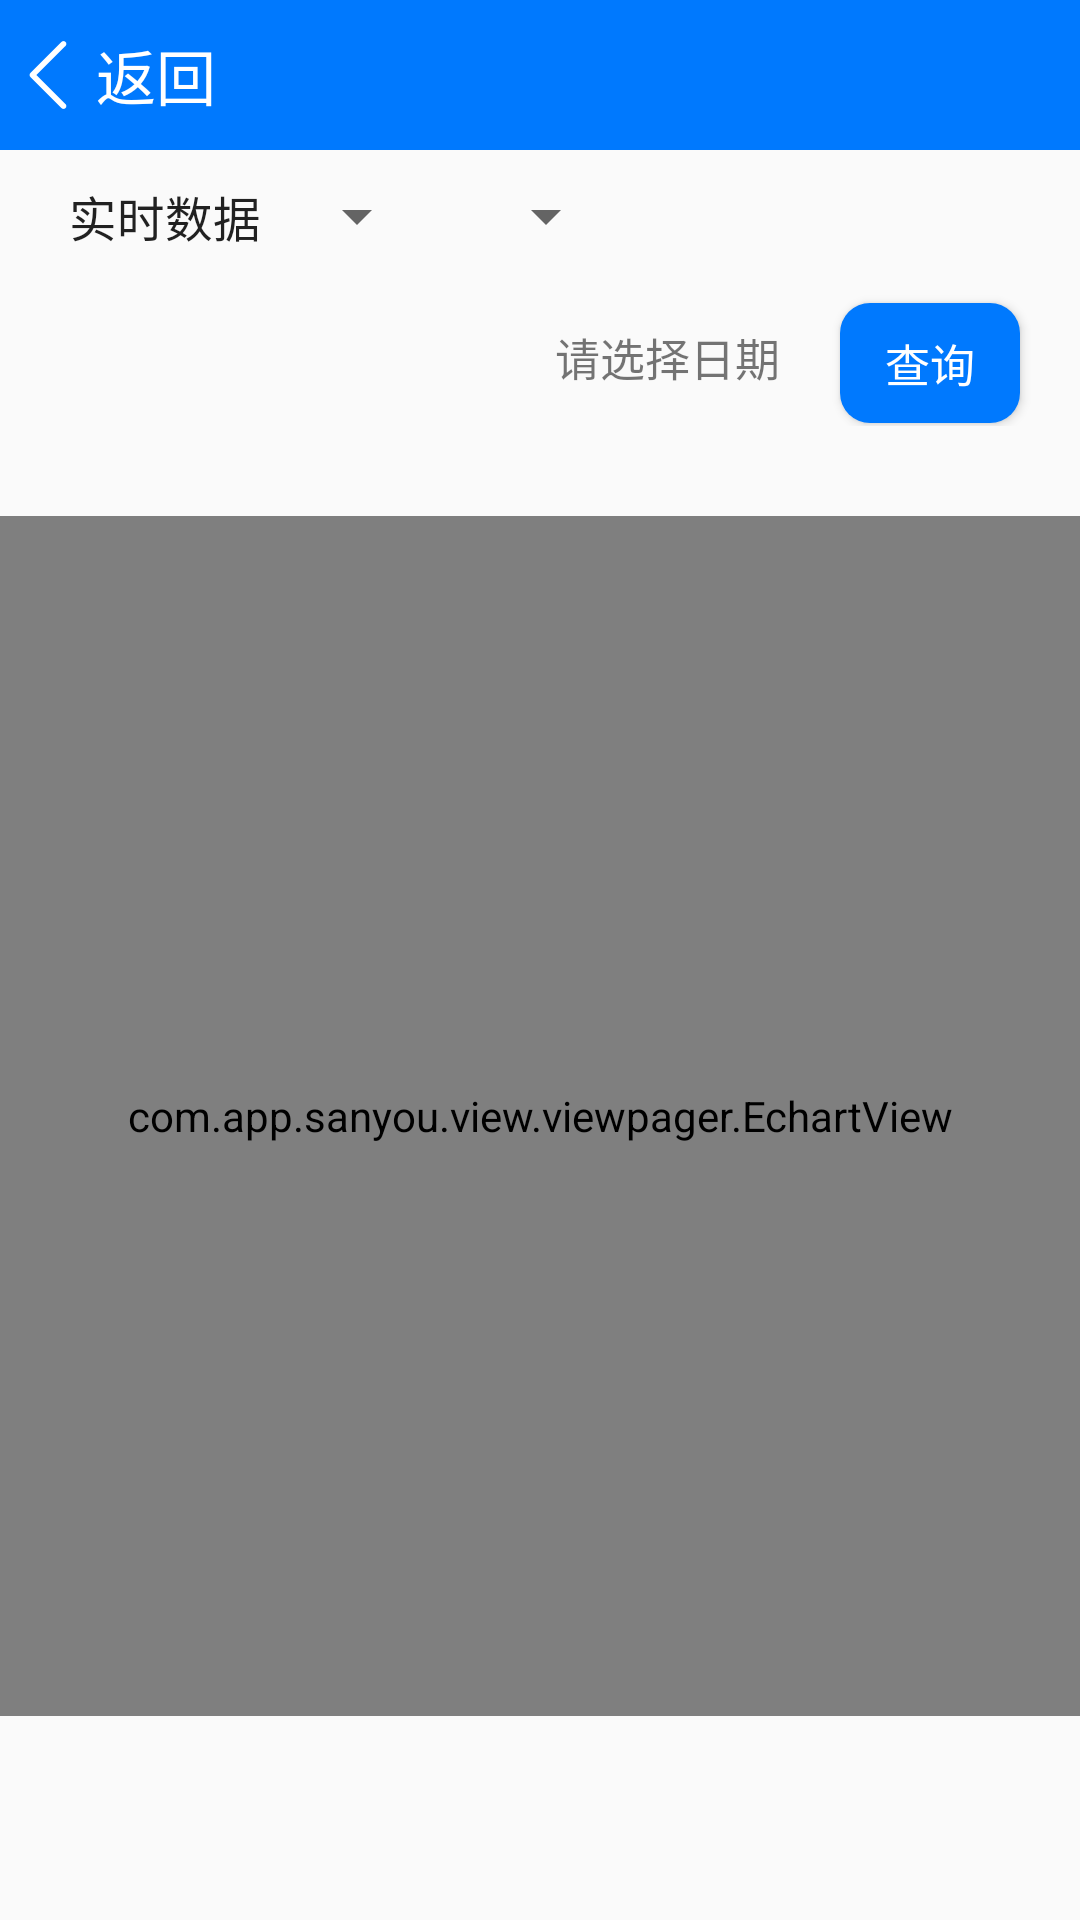

Icon click points for this 1080 × 1920 phone screenshot, format (x=x, y=y):
left arrow: (x=48, y=75)
